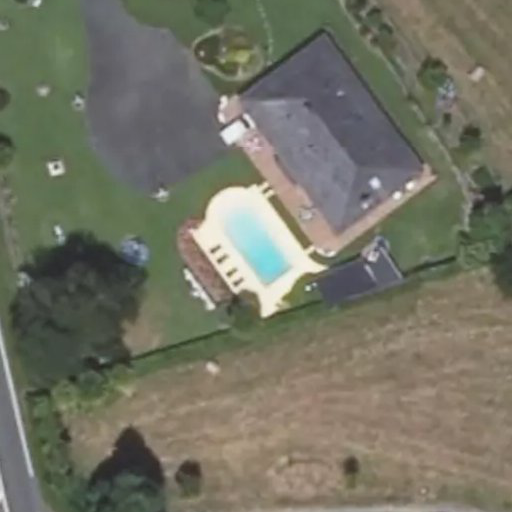pool: (209, 212, 292, 261)
